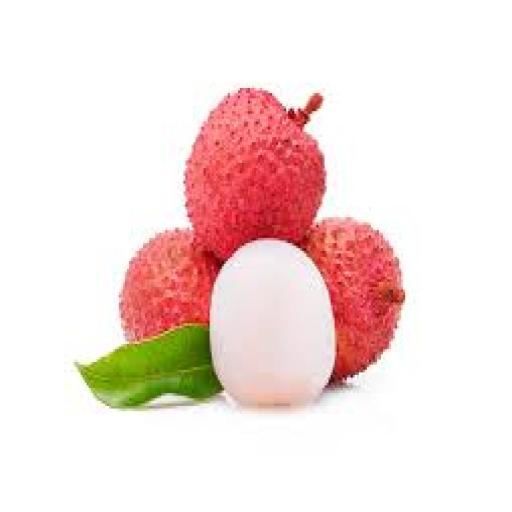lychee: (186, 88, 324, 258), (210, 241, 334, 405), (303, 218, 405, 382), (119, 231, 219, 341)
